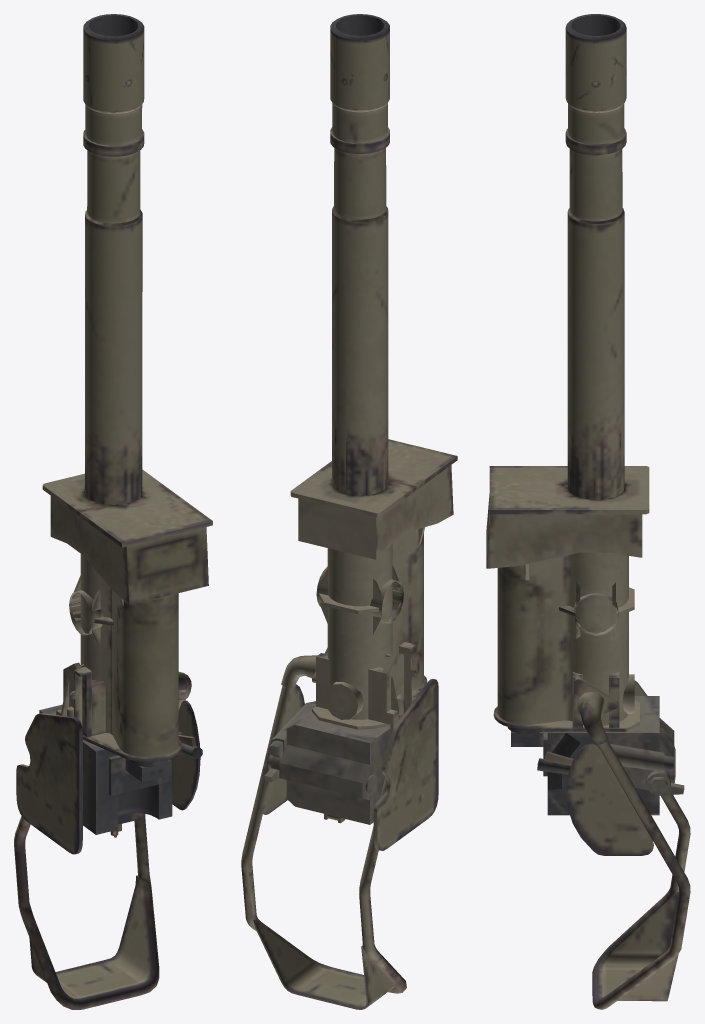
The model's file is Gun_03.glb.
3 renders of one model, left to right at view 1: azimuth 30°, elevation 25°; view 2: azimuth 150°, elevation 25°; view 3: azimuth 270°, elevation 25°, orthographic.
Visible parts, largest first — view 1: set_0_group_0; view 2: set_0_group_0; view 3: set_0_group_0.
Boxes of the visible parts, x1,y1,x2,y2 form: set_0_group_0: [14, 14, 212, 1009]; set_0_group_0: [241, 14, 457, 1009]; set_0_group_0: [486, 14, 690, 1009].
Bounding box in the file's own units: 0.4088 × 2.84 × 0.5436.
Materials: 1 (1 with a texture image).
